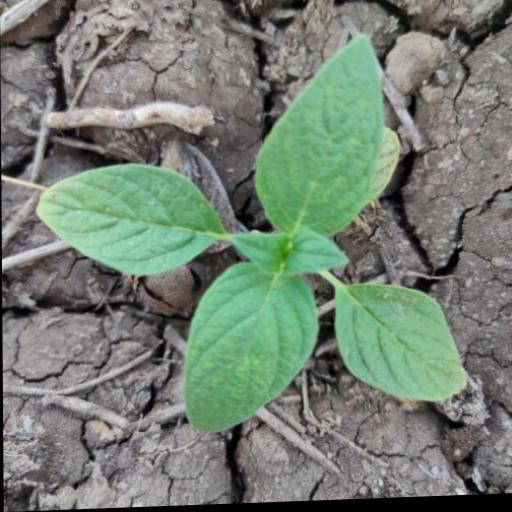crop: (35, 30, 467, 442)
